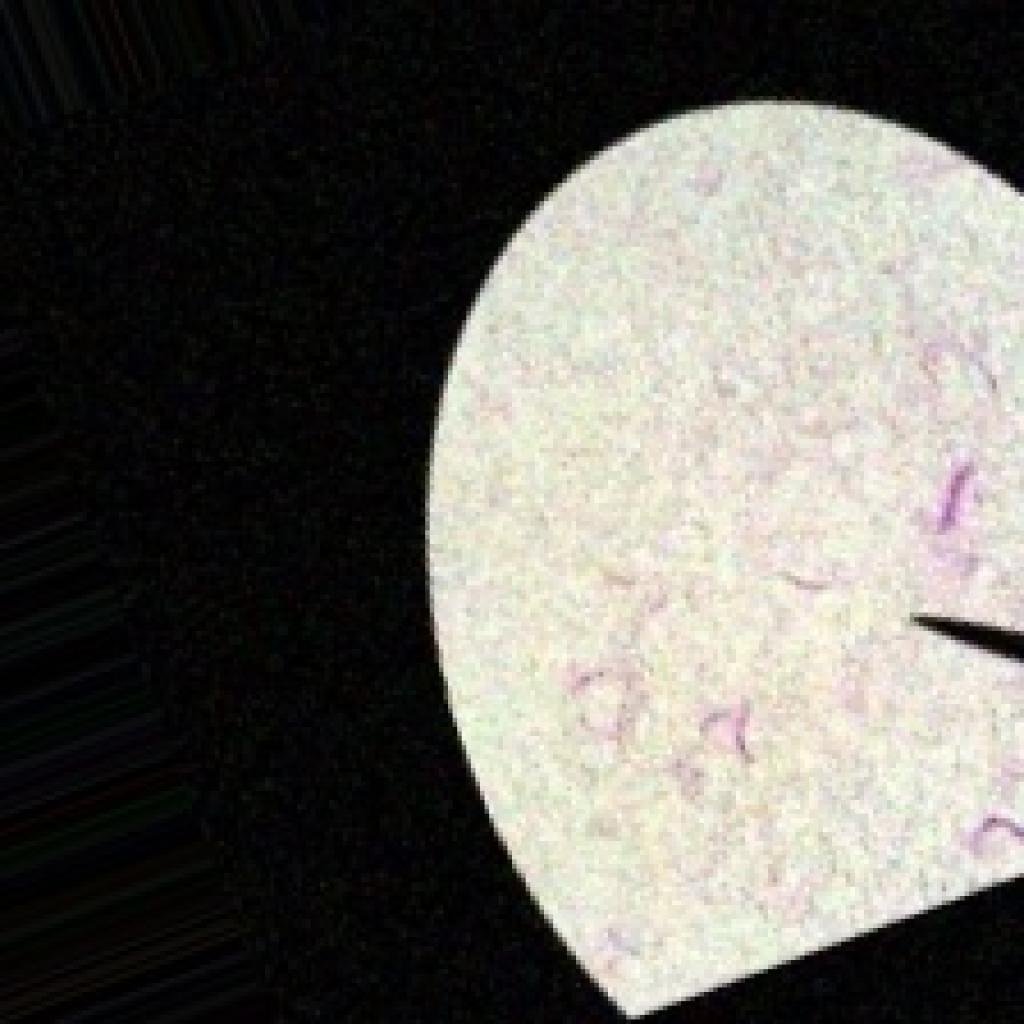Sprialbacteria: (420, 92, 1020, 1020)
